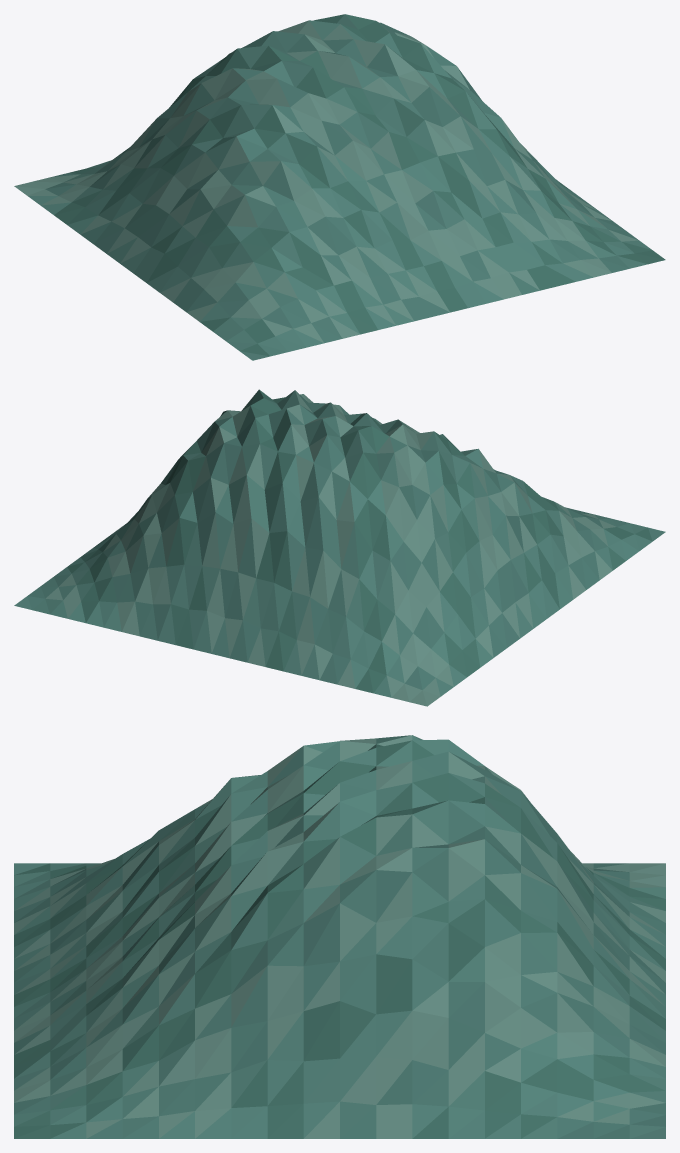
File: midMountain.glb
The picture shows the model from 3 angles, top to bottom: view 1: azimuth 30°, elevation 25°; view 2: azimuth 150°, elevation 25°; view 3: azimuth 270°, elevation 25°; orthographic projection. The views are drawn at different scales.
Visible parts, largest first — view 1: MountainMesh.004; view 2: MountainMesh.004; view 3: MountainMesh.004.
Part boxes in pixels (x1=…): MountainMesh.004: x1=14, y1=14, x2=665, y2=360; MountainMesh.004: x1=14, y1=389, x2=665, y2=706; MountainMesh.004: x1=14, y1=735, x2=665, y2=1138.
Bounding box in the file's own units: 2 × 0.8 × 2.
